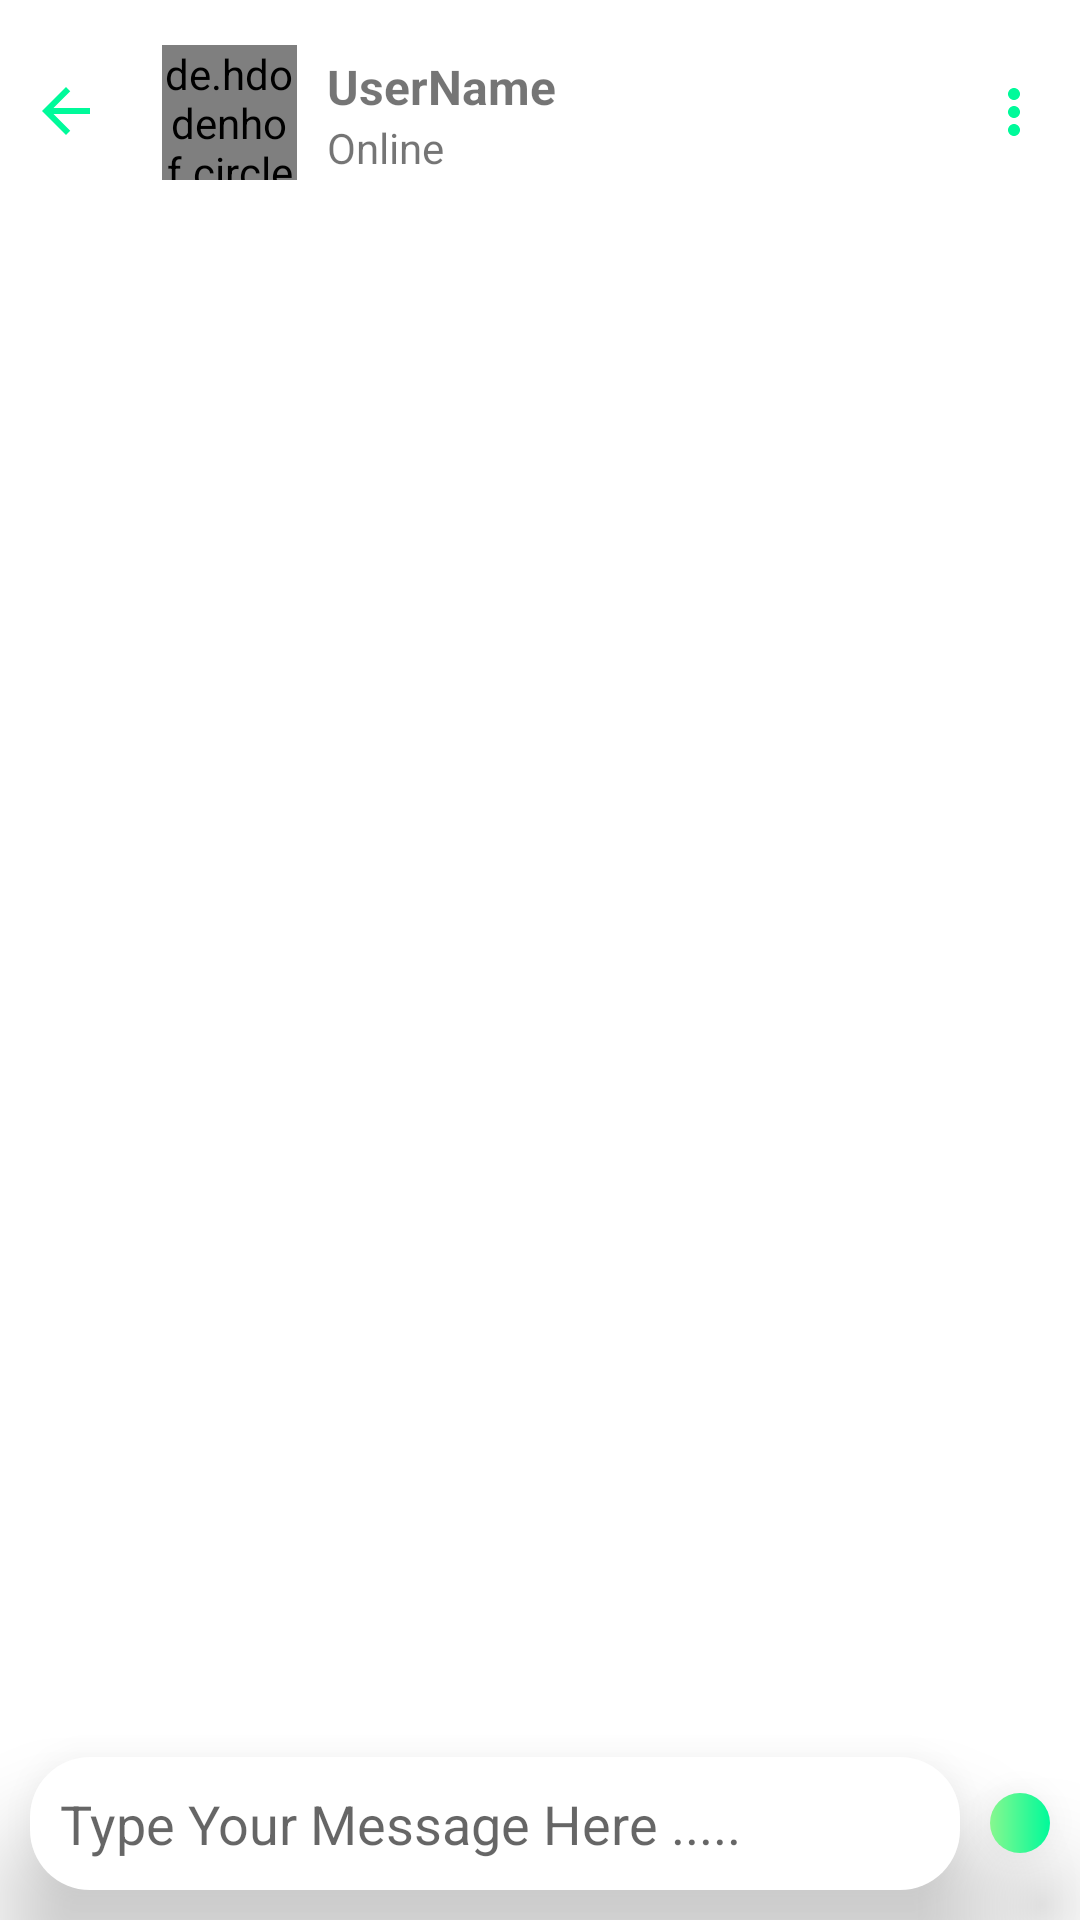

Named icons in this screenshot (1080w x 1920h) and their bounding boxes, detection(x1, y1, x2, y2):
back: detection(42, 87, 90, 135)
menu: detection(1008, 88, 1020, 136)
